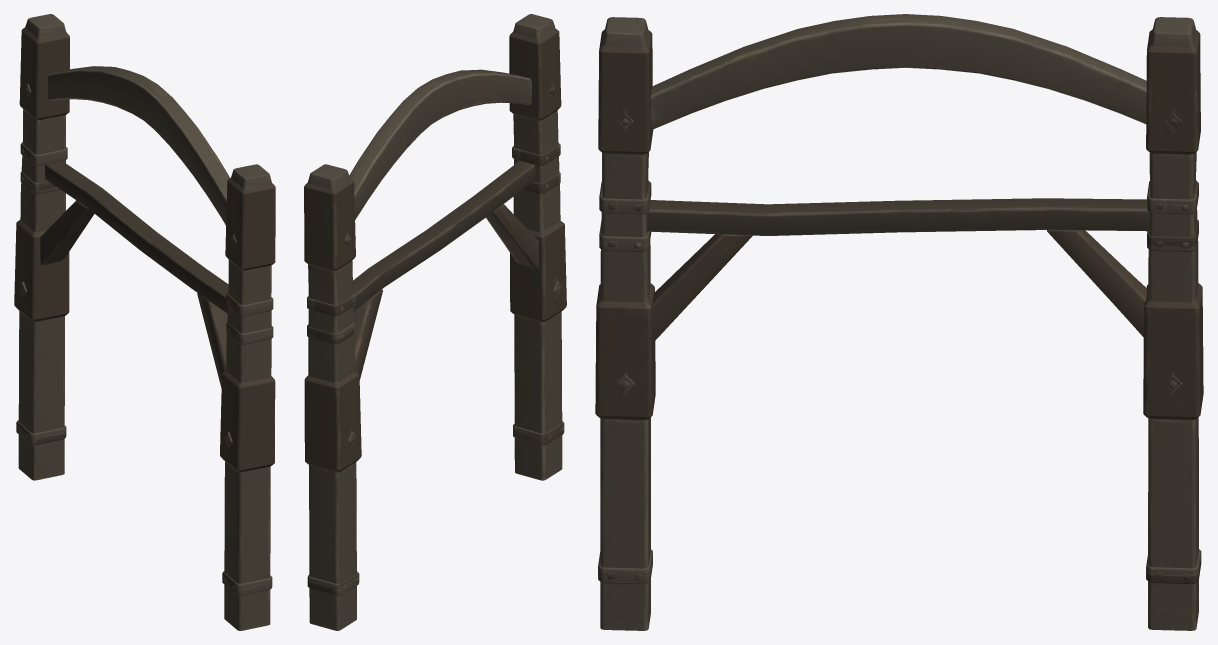
The model's file is build_gate_01.glb.
The picture shows the model from 3 angles, left to right: view 1: azimuth 30°, elevation 25°; view 2: azimuth 150°, elevation 25°; view 3: azimuth 270°, elevation 25°; orthographic projection. The views are drawn at different scales.
Parts seen in each view (by area): view 1: build_gate_01; view 2: build_gate_01; view 3: build_gate_01.
Boxes of the visible parts, left/top/right/bottom form: build_gate_01: left=14, top=14, right=275, bottom=630; build_gate_01: left=304, top=14, right=566, bottom=630; build_gate_01: left=595, top=14, right=1203, bottom=630.
Size of the model in its own units: 0.00793 by 0.0785 by 0.0711.
Materials: 1 (1 with a texture image).
